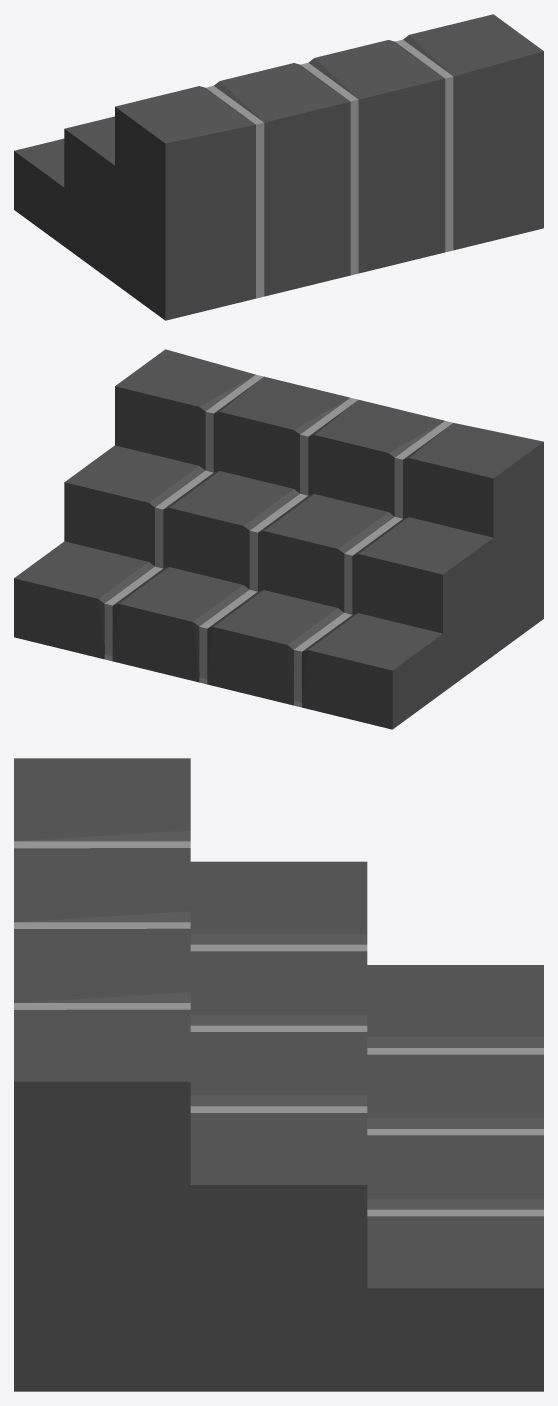
The model's file is StoneStairs(S).fbx.
3 renders of one model, top to bottom at view 1: azimuth 30°, elevation 25°; view 2: azimuth 150°, elevation 25°; view 3: azimuth 270°, elevation 25°, orthographic. The views are drawn at different scales.
Parts seen in each view (by area): view 1: Cube.001; view 2: Cube.001; view 3: Cube.001.
Part boxes in pixels (x1,y1,x2,y2): Cube.001: (14, 14, 543, 320); Cube.001: (14, 349, 543, 729); Cube.001: (14, 758, 543, 1391).
Size of the model in its own units: 245 by 110 by 170.
